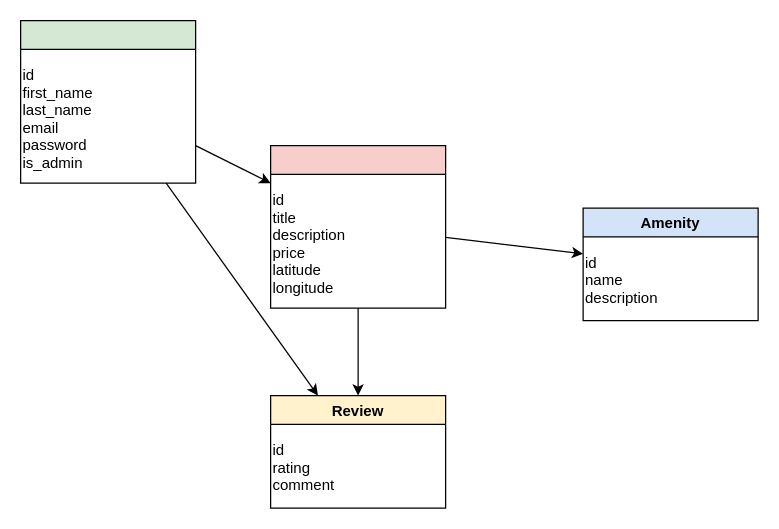
The diagram is 779 pixels wide and 529 high, and some of its shapes have lost their labels. Each missing label, with the box of its shape:
Place: (269, 144, 446, 308)
User: (19, 19, 196, 183)
